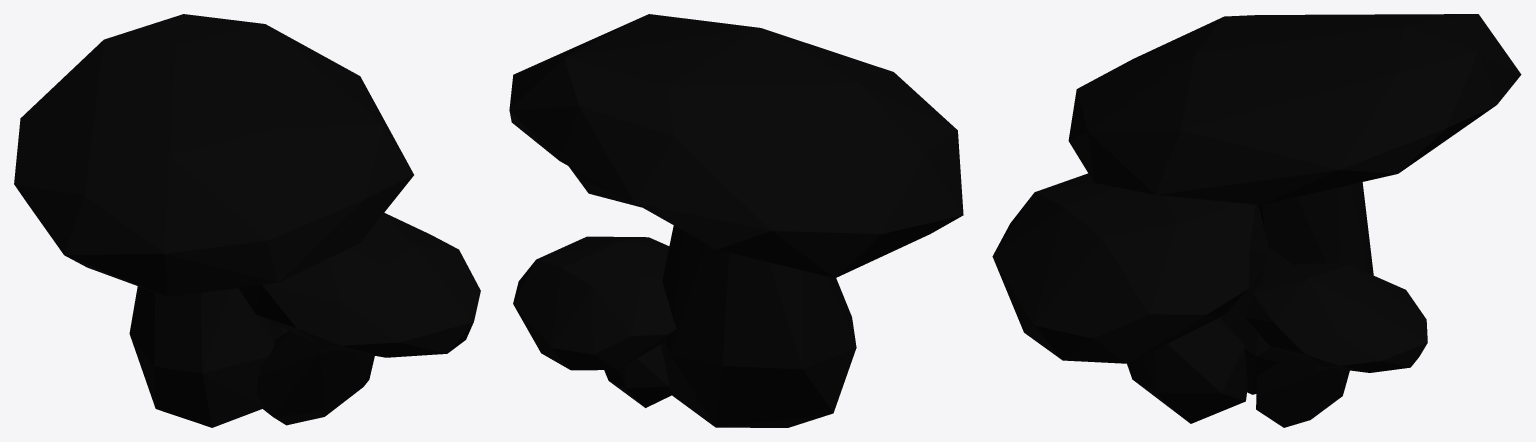
The model's file is shroom1.obj.
The picture shows the model from 3 angles, left to right: view 1: azimuth 30°, elevation 25°; view 2: azimuth 150°, elevation 25°; view 3: azimuth 270°, elevation 25°; orthographic projection. The views are drawn at different scales.
Parts seen in each view (by area): view 1: mushroom.002; view 2: mushroom.002; view 3: mushroom.002.
Part boxes in pixels (<box>): mushroom.002: <box>14,14,480,427</box>; mushroom.002: <box>509,14,963,427</box>; mushroom.002: <box>992,14,1521,427</box>.
Bounding box in the file's own units: 0.6513 × 0.563 × 0.7315.
